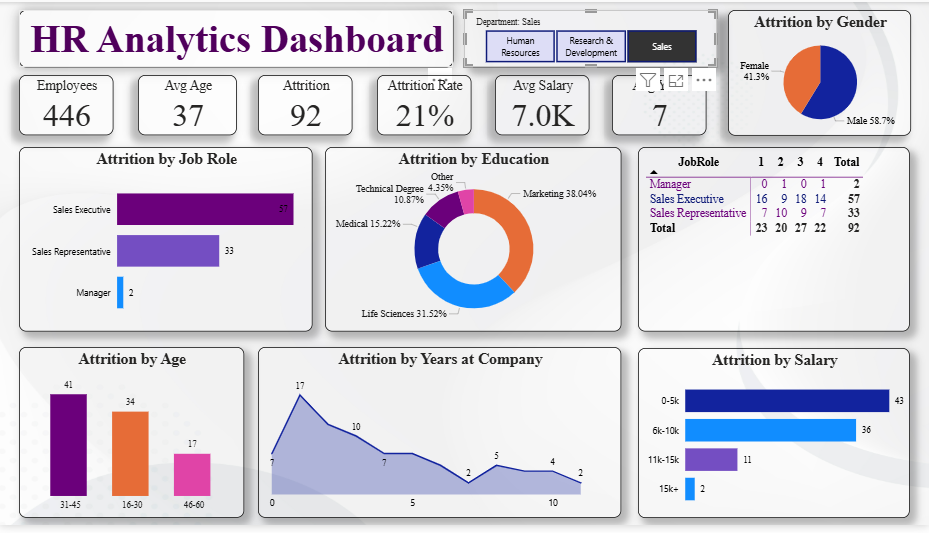

The page's visual inventory and layout, read from the dashboard file:
{"tool":"powerbi","page":{"name":"Page 1","canvas":[1280,720],"ordinal":0},"visuals":[{"type":"textbox","box":[27.2,10.7,598.2,78.8],"z":0},{"type":"card","title":"Employees","fields":{"Values":["CountNonNull(HR-Employee-Attrition.EmployeeNumber)"]},"box":[27.2,101.2,130.3,82.7],"z":1000},{"type":"card","title":"Avg Age","fields":{"Values":["Avg(HR-Employee-Attrition.Age)"]},"box":[190.6,101.2,136.2,82.7],"z":2000},{"type":"card","title":"Attrition","fields":{"Values":["Sum(HR-Employee-Attrition.AttritionCount)"]},"box":[357,101.2,130.3,82.7],"z":3000},{"type":"card","title":"Attrition Rate","fields":{"Values":["HR-Employee-Attrition.AttritionRate"]},"box":[520.4,101.2,130.3,82.7],"z":4000},{"type":"card","title":"Avg Salary","fields":{"Values":["Avg(HR-Employee-Attrition.MonthlyIncome)"]},"box":[682.8,101.2,130.3,82.7],"z":5000},{"type":"card","title":"Avg Years","fields":{"Values":["Avg(HR-Employee-Attrition.YearsAtCompany)"]},"box":[843.3,101.2,130.3,82.7],"z":6000},{"type":"donutChart","title":" Attrition by Education","fields":{"Category":["HR-Employee-Attrition.EducationField"],"Y":["Sum(HR-Employee-Attrition.AttritionCount)"]},"box":[449,200,407.8,254.3],"z":7000},{"type":"columnChart","title":" Attrition by Age","fields":{"Category":["HR-Employee-Attrition.AgeGroup"],"Y":["Sum(HR-Employee-Attrition.AttritionCount)"]},"box":[27.2,475.3,309.6,235],"z":8000},{"type":"pivotTable","fields":{"Columns":["HR-Employee-Attrition.JobSatisfaction"],"Rows":["HR-Employee-Attrition.JobRole"],"Values":["Sum(HR-Employee-Attrition.AttritionCount)"]},"box":[880,200,374,254],"z":9000},{"type":"clusteredBarChart","title":"Attrition by Job Role","fields":{"Category":["HR-Employee-Attrition.JobRole"],"Y":["Sum(HR-Employee-Attrition.AttritionCount)"]},"box":[27.2,200,404.3,254.3],"z":10000},{"type":"areaChart","title":"Attrition by Years at Company","fields":{"Category":["HR-Employee-Attrition.YearsAtCompany"],"Y":["Sum(HR-Employee-Attrition.AttritionCount)"]},"box":[356.9,475.3,499.9,235],"z":11000},{"type":"barChart","title":"Attrition by Salary","fields":{"Category":["HR-Employee-Attrition.Salary"],"Y":["Sum(HR-Employee-Attrition.AttritionCount)"]},"box":[879.6,476.2,374.5,234.2],"z":12000},{"type":"pieChart","title":"Attrition by Gender","fields":{"Category":["HR-Employee-Attrition.Gender"],"Y":["Sum(HR-Employee-Attrition.AttritionCount)"]},"box":[1002.8,10.7,251.9,173.1],"z":13000},{"type":"slicer","fields":{"Values":["HR-Employee-Attrition.Department"]},"box":[640,10.7,348.2,78.8],"z":14000}]}

Visuals, with their boxes in screenshot pixels (x1, y1, x2, y2), scaled from the page's 1280x720 canvas onto the 929x533 screenshot:
textbox: [left=20, top=8, right=454, bottom=66]
"Employees" card: [left=20, top=75, right=114, bottom=136]
"Avg Age" card: [left=138, top=75, right=237, bottom=136]
"Attrition" card: [left=259, top=75, right=354, bottom=136]
"Attrition Rate" card: [left=378, top=75, right=472, bottom=136]
"Avg Salary" card: [left=496, top=75, right=590, bottom=136]
"Avg Years" card: [left=612, top=75, right=707, bottom=136]
" Attrition by Education" donutChart: [left=326, top=148, right=622, bottom=336]
" Attrition by Age" columnChart: [left=20, top=352, right=244, bottom=526]
pivotTable - HR-Employee-Attrition.JobSatisfaction x HR-Employee-Attrition.JobRole: [left=639, top=148, right=910, bottom=336]
"Attrition by Job Role" clusteredBarChart: [left=20, top=148, right=313, bottom=336]
"Attrition by Years at Company" areaChart: [left=259, top=352, right=622, bottom=526]
"Attrition by Salary" barChart: [left=638, top=353, right=910, bottom=526]
"Attrition by Gender" pieChart: [left=728, top=8, right=911, bottom=136]
slicer - HR-Employee-Attrition.Department: [left=464, top=8, right=717, bottom=66]
